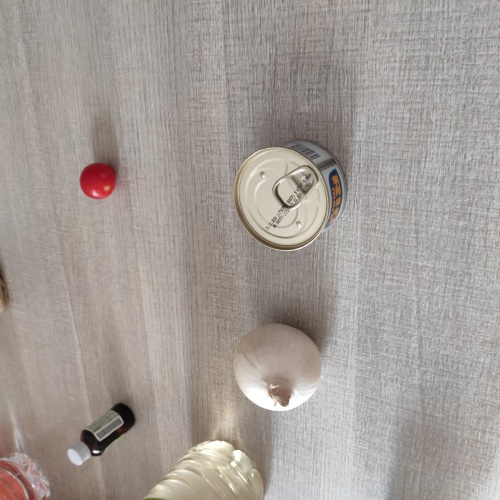cipolla: (229, 320, 325, 416)
pomodoro: (76, 157, 122, 203)
tonno: (229, 135, 353, 259)
